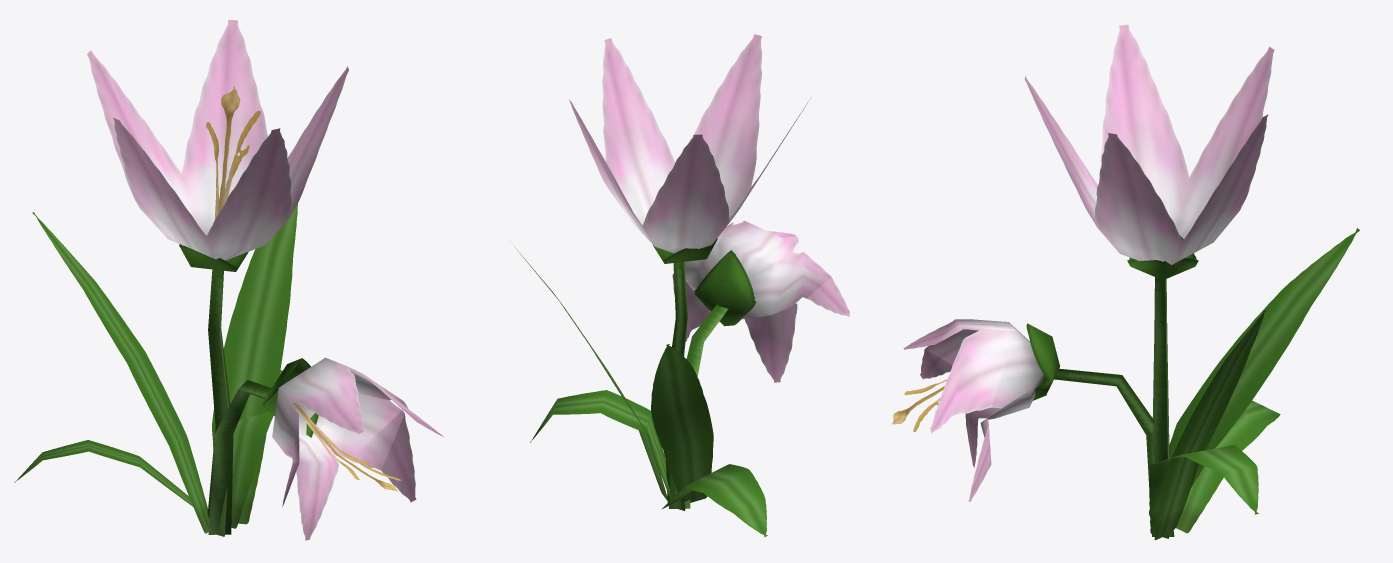
Rendered from lily.glb.
3 renders of one model, left to right at view 1: azimuth 30°, elevation 25°; view 2: azimuth 150°, elevation 25°; view 3: azimuth 270°, elevation 25°, orthographic. The views are drawn at different scales.
Parts seen in each view (by area): view 1: desat_petals_bloom, desat_petals_wilt, leaf1_bloom, leaf2_bloom, stem_wilt, stem_bloom, leaf1_wilt, pistol_bloom__billboard, leaf2_wilt, pistol_wilt, bulb_wilt, bulb_bloom; view 2: desat_petals_bloom, desat_petals_wilt, leaf2_bloom, leaf2_wilt, leaf1_wilt, bulb_wilt, stem_bloom, stem_wilt, leaf1_bloom, bulb_bloom; view 3: desat_petals_bloom, desat_petals_wilt, leaf2_bloom, leaf1_bloom, leaf1_wilt, leaf2_wilt, stem_bloom, stem_wilt, bulb_wilt, bulb_bloom, pistol_wilt.
Part boxes in pixels (x1=…): desat_petals_bloom: x1=87, y1=20, x2=348, y2=260; desat_petals_wilt: x1=272, y1=357, x2=443, y2=540; leaf1_bloom: x1=212, y1=204, x2=297, y2=524; leaf2_bloom: x1=32, y1=212, x2=211, y2=533; stem_wilt: x1=208, y1=380, x2=271, y2=534; stem_bloom: x1=207, y1=269, x2=230, y2=536; leaf1_wilt: x1=231, y1=370, x2=282, y2=528; pistol_bloom__billboard: x1=206, y1=86, x2=260, y2=219; leaf2_wilt: x1=14, y1=440, x2=209, y2=518; pistol_wilt: x1=293, y1=402, x2=401, y2=491; bulb_wilt: x1=262, y1=358, x2=318, y2=437; bulb_bloom: x1=179, y1=244, x2=248, y2=271; desat_petals_bloom: x1=569, y1=34, x2=811, y2=253; desat_petals_wilt: x1=672, y1=220, x2=849, y2=382; leaf2_bloom: x1=651, y1=344, x2=713, y2=502; leaf2_wilt: x1=662, y1=464, x2=767, y2=537; leaf1_wilt: x1=530, y1=390, x2=673, y2=504; bulb_wilt: x1=694, y1=250, x2=756, y2=326; stem_bloom: x1=666, y1=262, x2=687, y2=510; stem_wilt: x1=669, y1=305, x2=728, y2=508; leaf1_bloom: x1=514, y1=246, x2=668, y2=501; bulb_bloom: x1=653, y1=238, x2=717, y2=263; desat_petals_bloom: x1=1024, y1=24, x2=1274, y2=264; desat_petals_wilt: x1=903, y1=319, x2=1044, y2=501; leaf2_bloom: x1=1149, y1=228, x2=1359, y2=515; leaf1_bloom: x1=1154, y1=310, x2=1266, y2=540; leaf1_wilt: x1=1149, y1=445, x2=1258, y2=533; leaf2_wilt: x1=1176, y1=400, x2=1280, y2=533; stem_bloom: x1=1150, y1=277, x2=1169, y2=538; stem_wilt: x1=1044, y1=368, x2=1174, y2=536; bulb_wilt: x1=1026, y1=323, x2=1059, y2=400; bulb_bloom: x1=1127, y1=236, x2=1198, y2=280; pistol_wilt: x1=891, y1=379, x2=947, y2=432.
Bounding box in the file's own units: 0.8536 × 1.19 × 1.17.
Materials: 5 (5 with a texture image).
